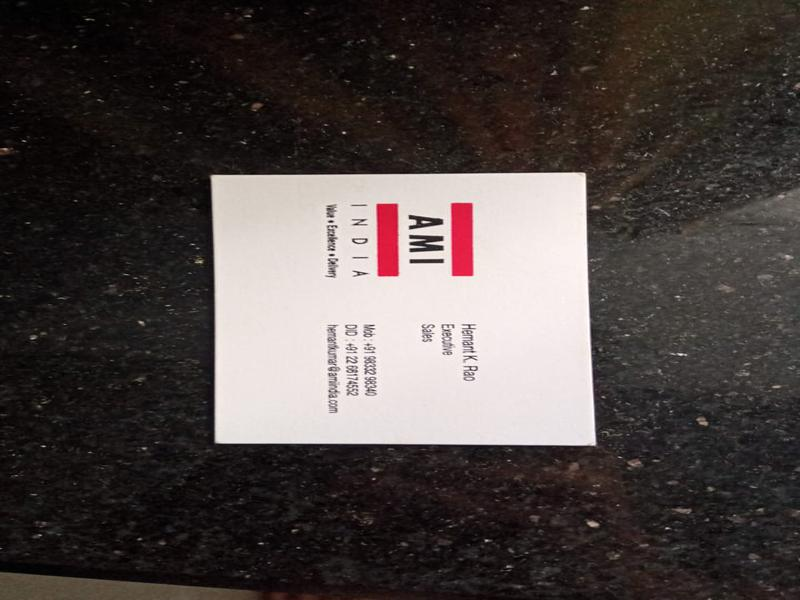card: (204, 170, 603, 450)
